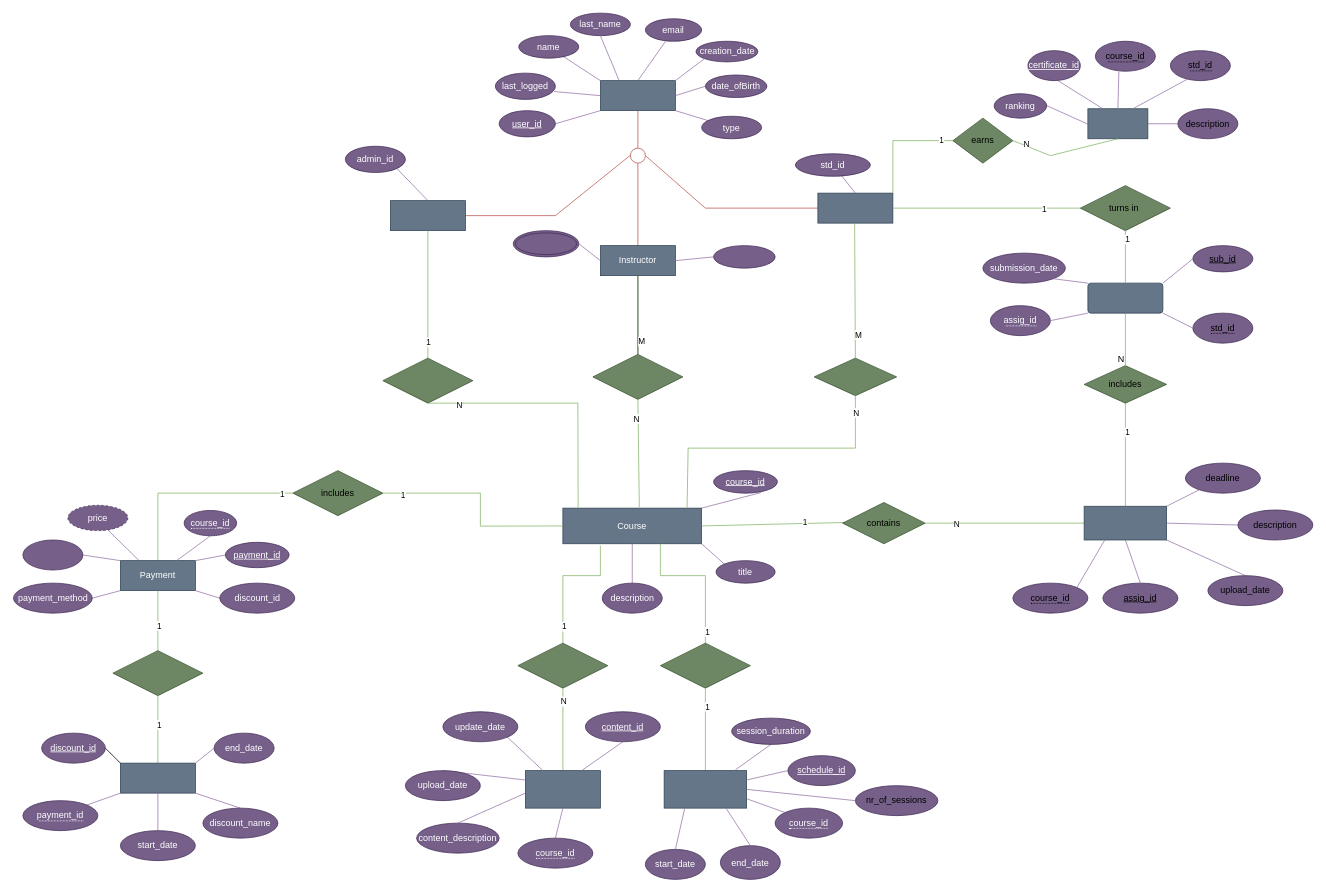
The diagram is 1326 pixels wide and 893 high, and some of its shapes have lost their labels. The centre of each missing label's shape, as x and y in pixels:
"Admin" goes at point (427, 215).
"administrates" goes at point (427, 380).
"applies" goes at point (157, 673).
"Assignment" goes at point (1125, 523).
"Certification" goes at point (1117, 123).
"consists of" goes at point (705, 665).
"Content" goes at point (562, 789).
"Discount" goes at point (157, 777).
"due_date" goes at point (52, 554).
"enrolls" goes at point (855, 376).
"inst_id" goes at point (744, 256).
"provides" goes at point (562, 665).
"Schedule" goes at point (705, 789).
"specialization" goes at point (545, 243).
"Student" goes at point (855, 207).
"Submission" goes at point (1125, 297).
"teaches" goes at point (637, 376).
"User" goes at point (637, 95).
